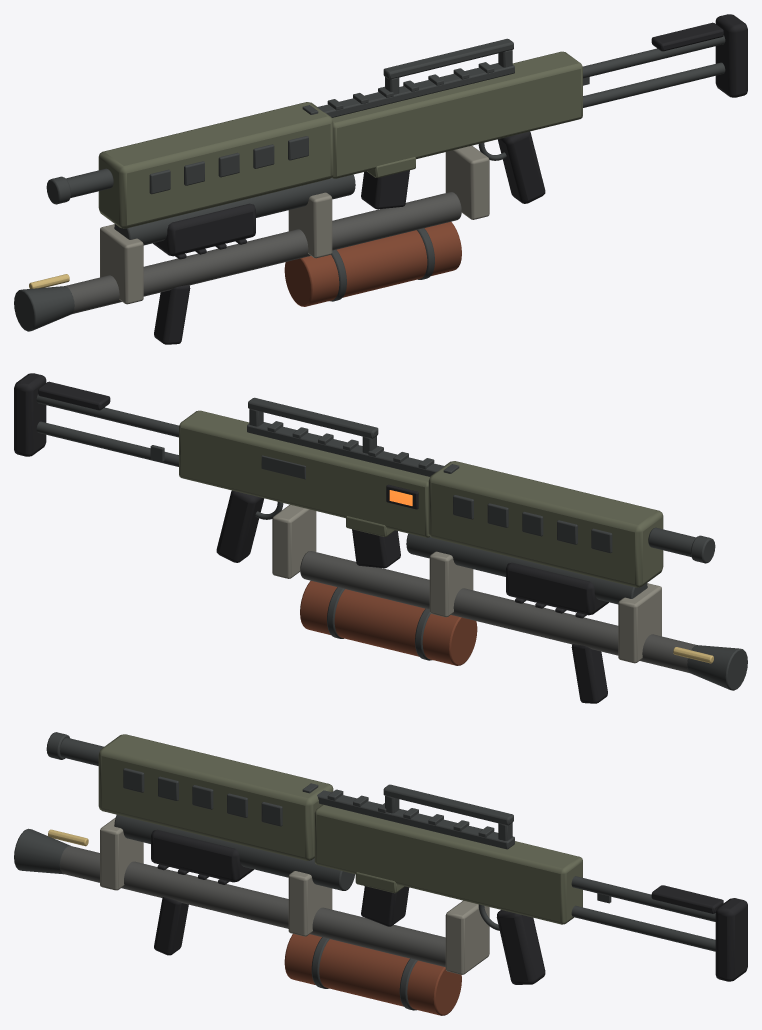
The model's file is gun_combo.glb.
The picture shows the model from 3 angles, top to bottom: view 1: azimuth 30°, elevation 25°; view 2: azimuth 150°, elevation 25°; view 3: azimuth 330°, elevation 25°; orthographic projection.
Visible parts, largest first — view 1: shroud, recv, fbarrel, ftank, gl, pump, tape-0.05, tape-0.60, grip, butt, rail, fnozzle (+10 smaller); view 2: shroud, recv, fbarrel, ftank, gl, pump, tape-0.05, tape-0.60, grip, butt, rail, tape-0.30 (+11 smaller); view 3: recv, shroud, fbarrel, ftank, gl, pump, tape-0.05, grip, butt, rail, tape-0.60, tape-0.30 (+9 smaller).
Part boxes in pixels (x1,y1,x2,y2): shroud: (98,102,333,228); recv: (332,51,582,178); fbarrel: (65,192,461,313); ftank: (284,222,461,306); gl: (114,174,355,245); pump: (153,203,255,256); tape-0.05: (445,145,489,219); tape-0.60: (100,224,143,304); grip: (497,131,545,203); butt: (715,14,747,97); rail: (317,63,514,117); fnozzle: (14,286,74,331); shroud: (428,461,663,587); recv: (179,410,429,537); fbarrel: (300,551,696,672); ftank: (300,581,477,665); gl: (406,533,647,604); pump: (506,562,608,615); tape-0.05: (272,504,316,578); tape-0.60: (618,583,661,663); grip: (216,490,264,562); butt: (14,373,46,456); rail: (247,422,444,476); tape-0.30: (429,551,473,617); recv: (314,804,582,924); shroud: (98,734,333,860); fbarrel: (60,846,445,967); ftank: (284,934,461,1015); gl: (114,815,354,890); pump: (151,829,253,882); tape-0.05: (445,900,489,974); grip: (496,910,545,984); butt: (715,898,747,981); rail: (317,790,514,849); tape-0.60: (100,817,143,890); tape-0.30: (288,871,332,936).
Size of the model in its own units: 1.14 by 0.3319 by 0.08.
